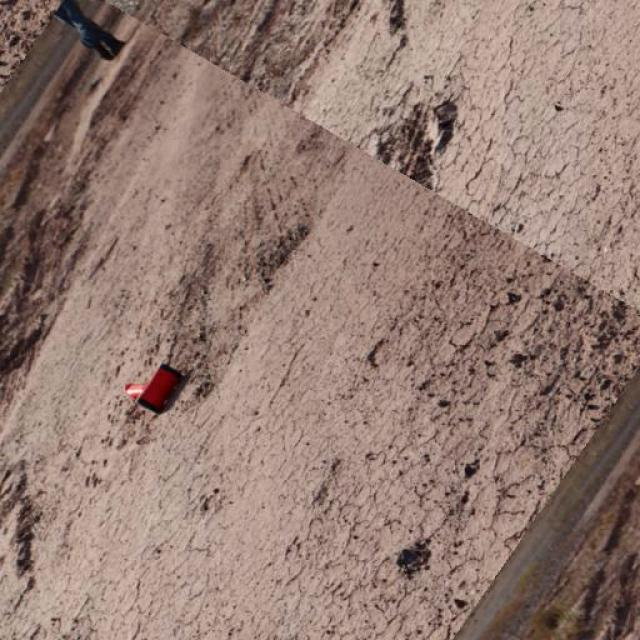mallet: (122, 361, 184, 414)
